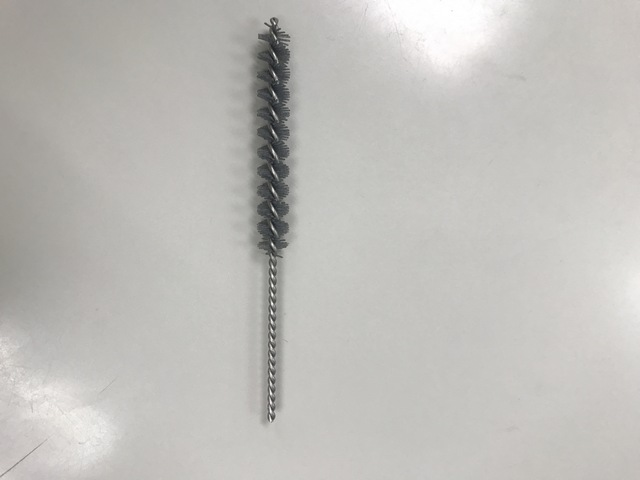Twist Brush-A: (244, 9, 294, 426)
